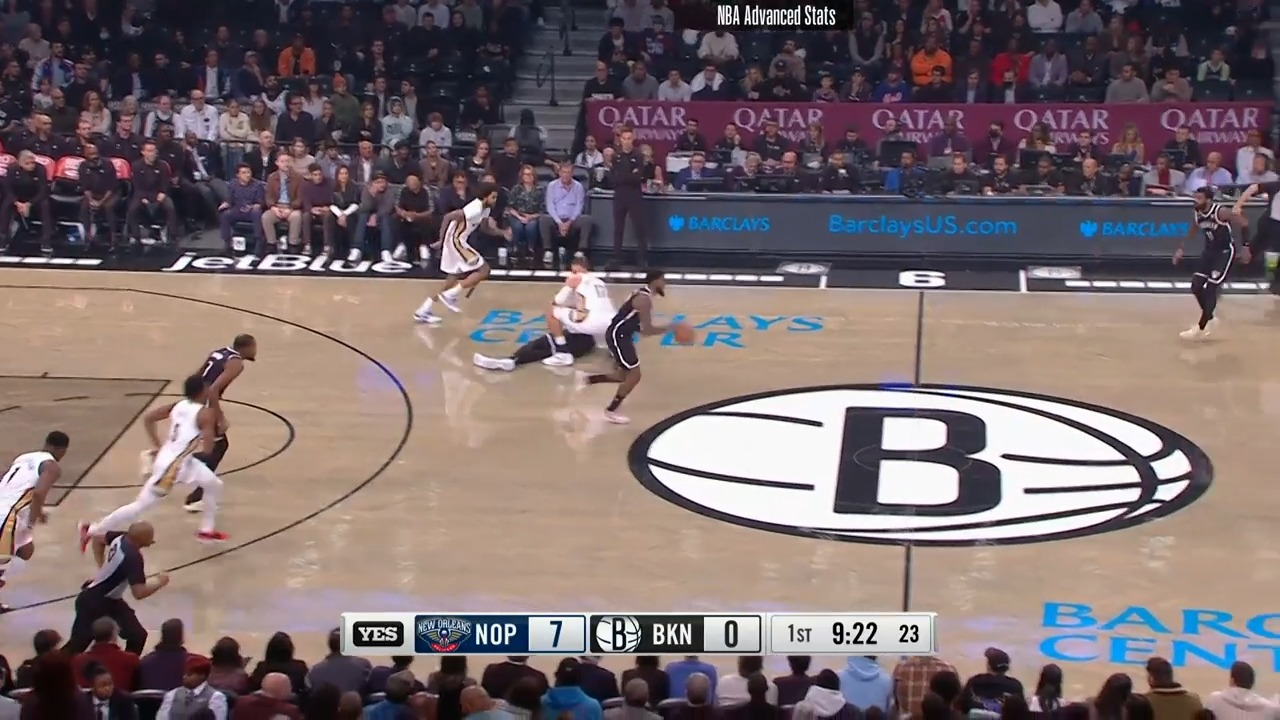player: (82, 385, 231, 547), (565, 266, 674, 428), (179, 330, 262, 512), (411, 187, 508, 326), (0, 427, 77, 585), (1182, 185, 1256, 343), (539, 252, 626, 365), (474, 316, 598, 379)
referee: (68, 516, 170, 659), (1233, 170, 1280, 289)
